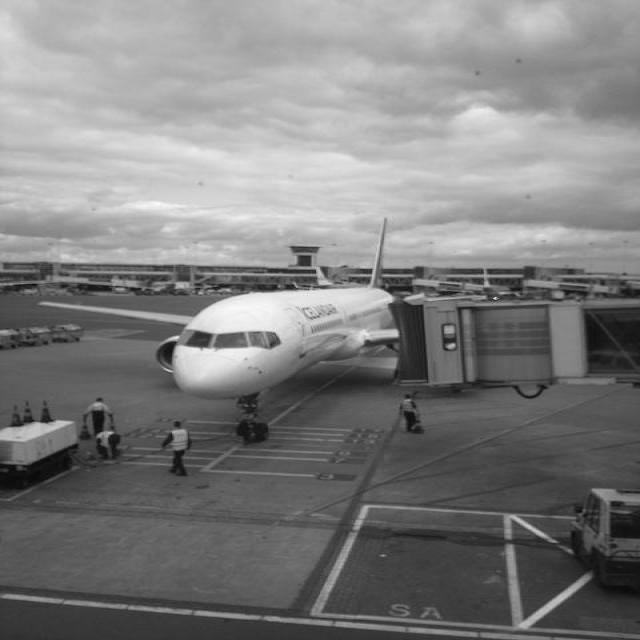vehicle: (566, 486, 637, 592), (0, 326, 50, 349), (13, 326, 55, 346), (49, 324, 83, 342), (210, 286, 245, 295), (135, 288, 162, 296), (168, 288, 192, 296), (114, 287, 127, 293)
